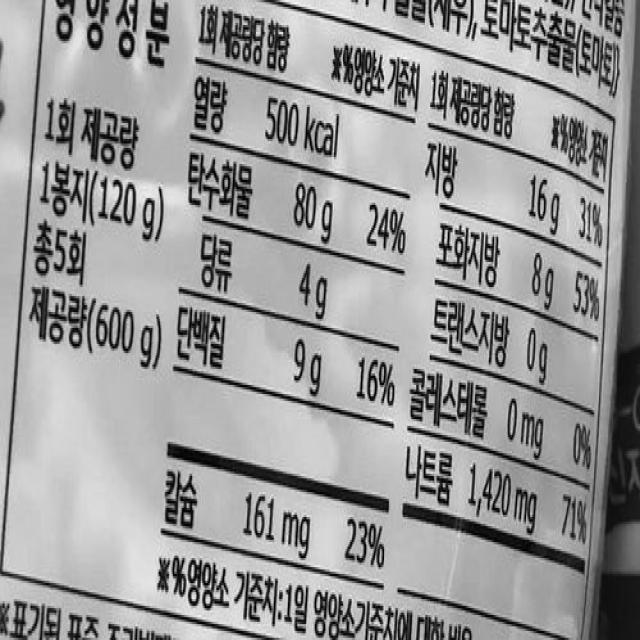Nutrition Label: (0, 2, 637, 639)
